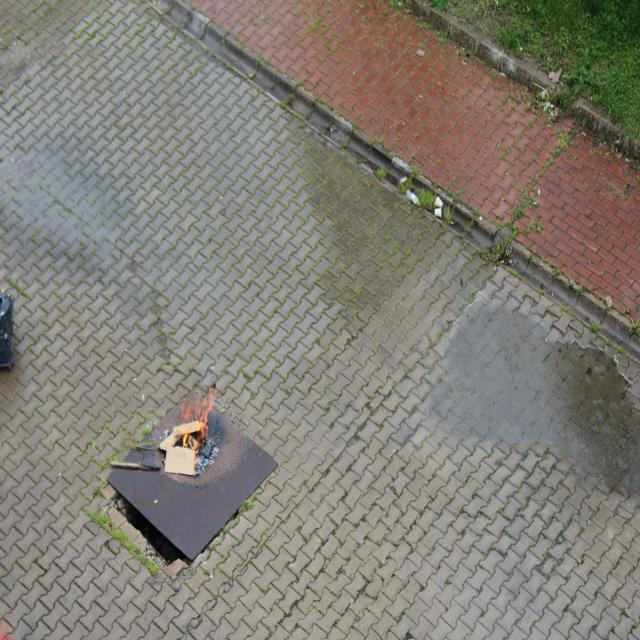fire: (160, 380, 218, 463)
